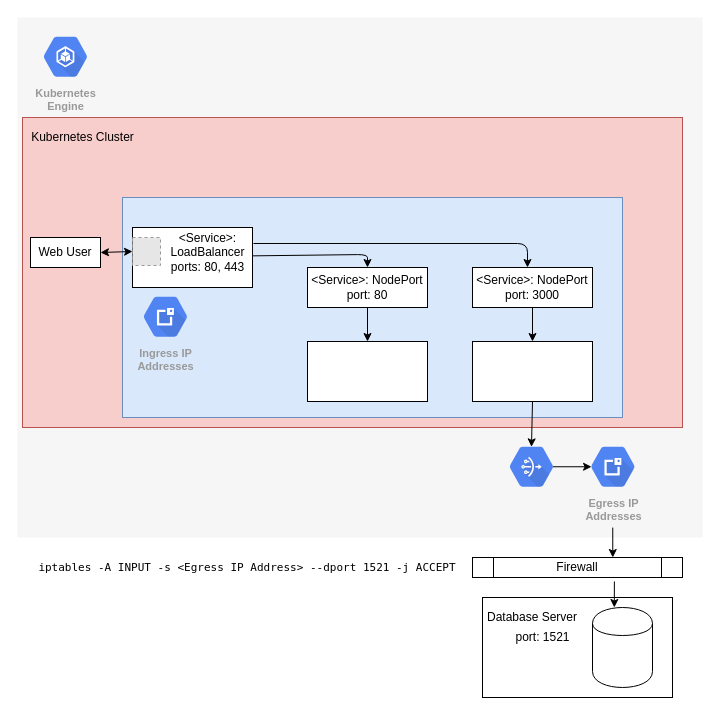
Image size: 719x715. Some labels were removed from this diagram. Grey dashed boxes stand in for pictures. The centre of each missing label's shape, as x and y in pixels:
"API Server Instance port: 3000" goes at pixel 532 371.
"Cloud NAT" goes at pixel 531 466.
"Oracle Database" goes at pixel 622 647.
"UI Instance port: 80" goes at pixel 367 371.
